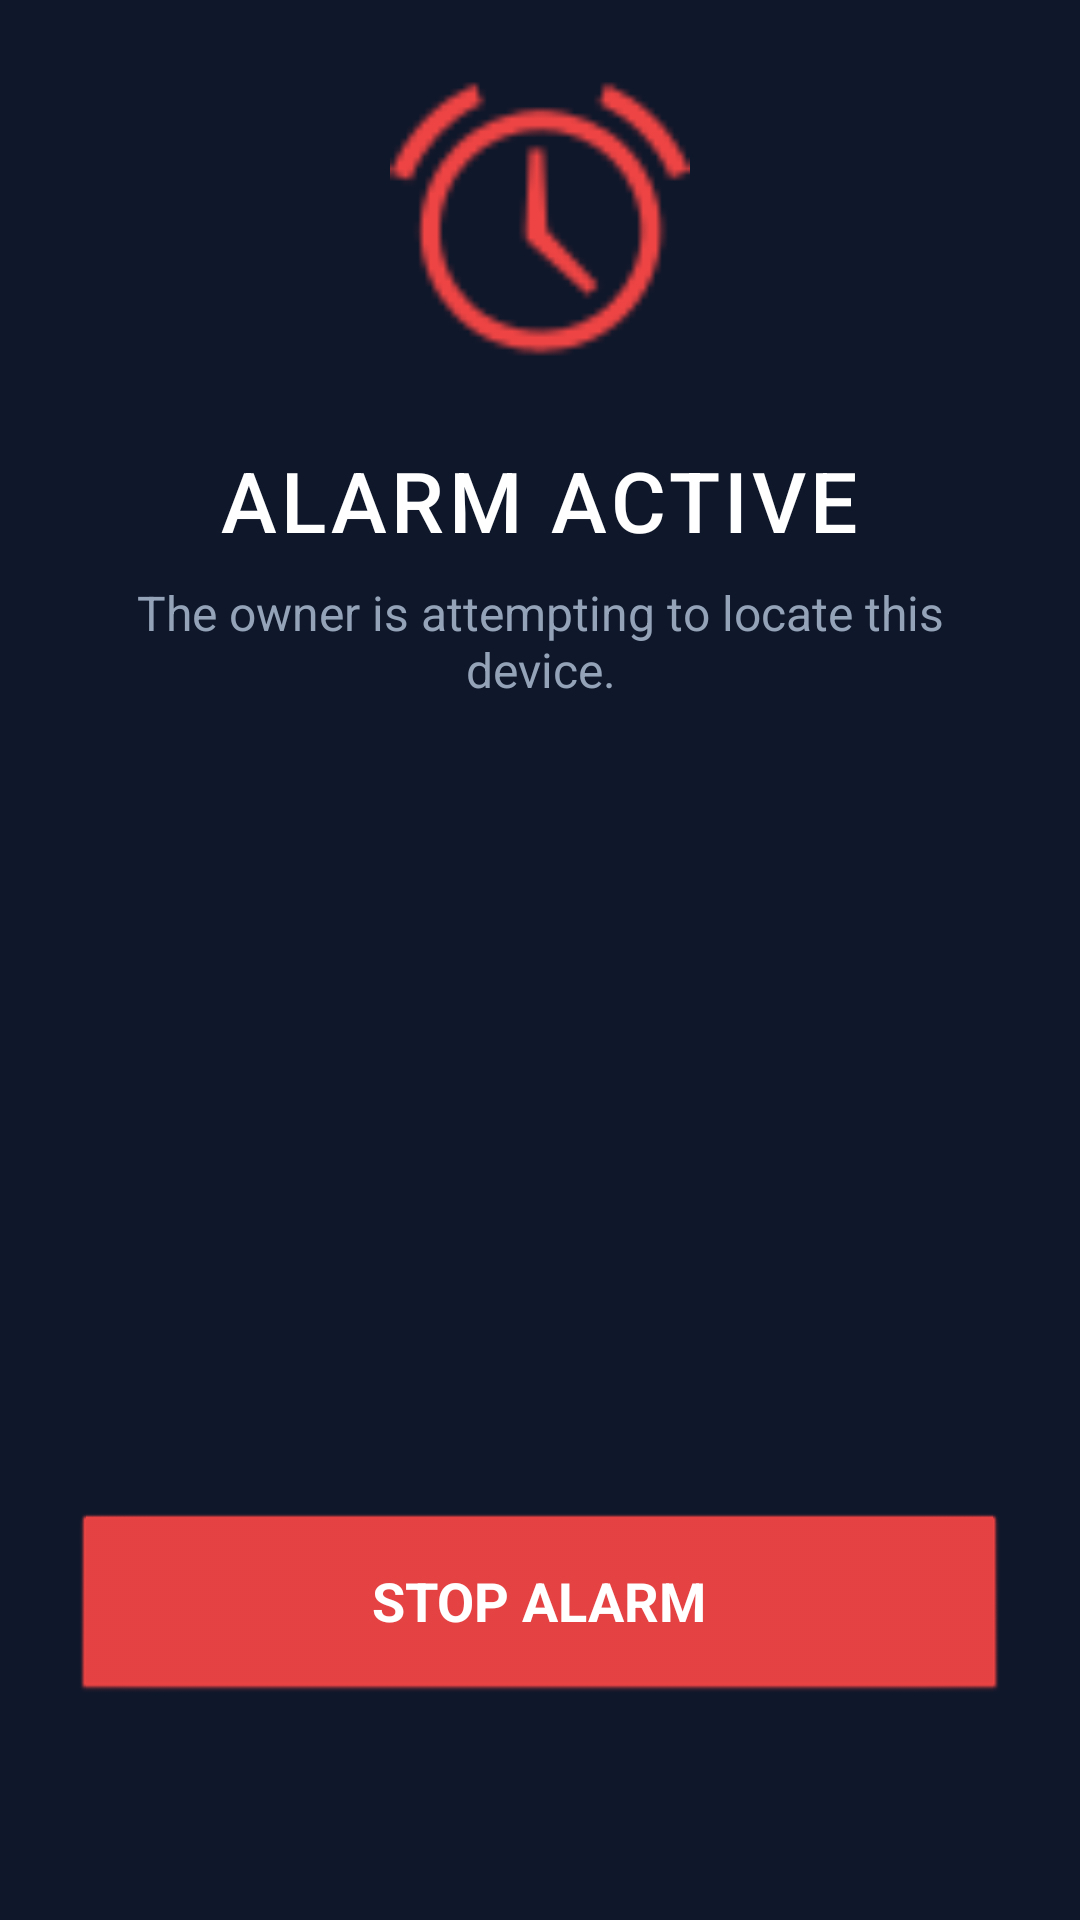

Point at icon controls on the screen. Image size 1080px x 1920px, points as point (x, y).
lock idle alarm: point (540, 218)
